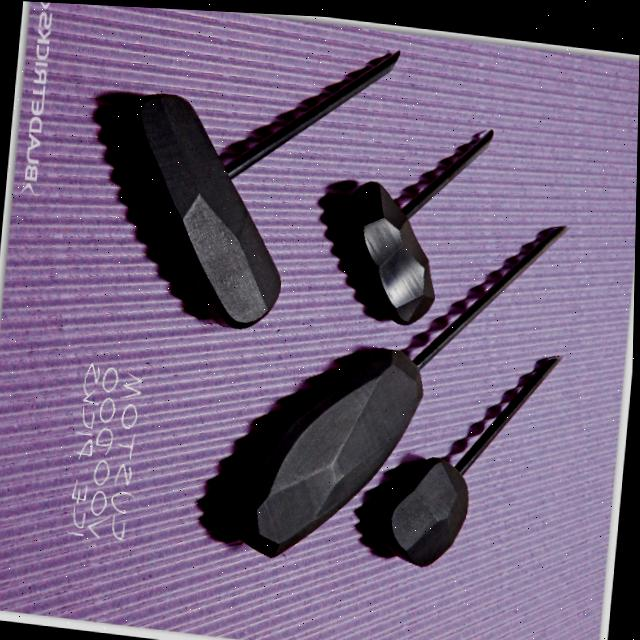ice pick: (216, 183, 571, 583), (107, 13, 400, 340), (376, 330, 564, 574), (329, 109, 493, 328)
